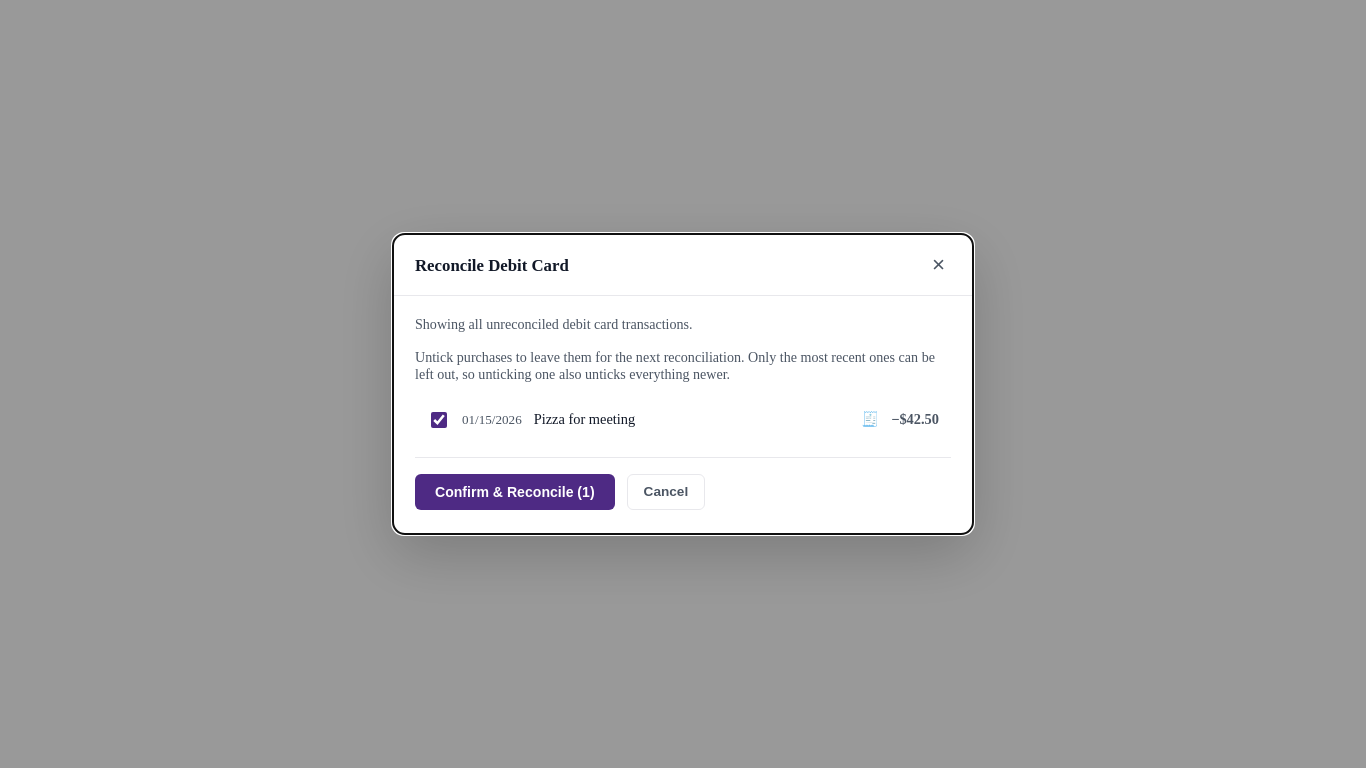
Test: ReconciliationModal › shows an error message when the receipts ZIP download fails
Click the button "Confirm & Reconcile (1)". click: (515, 492)
box: [415,474,615,510]
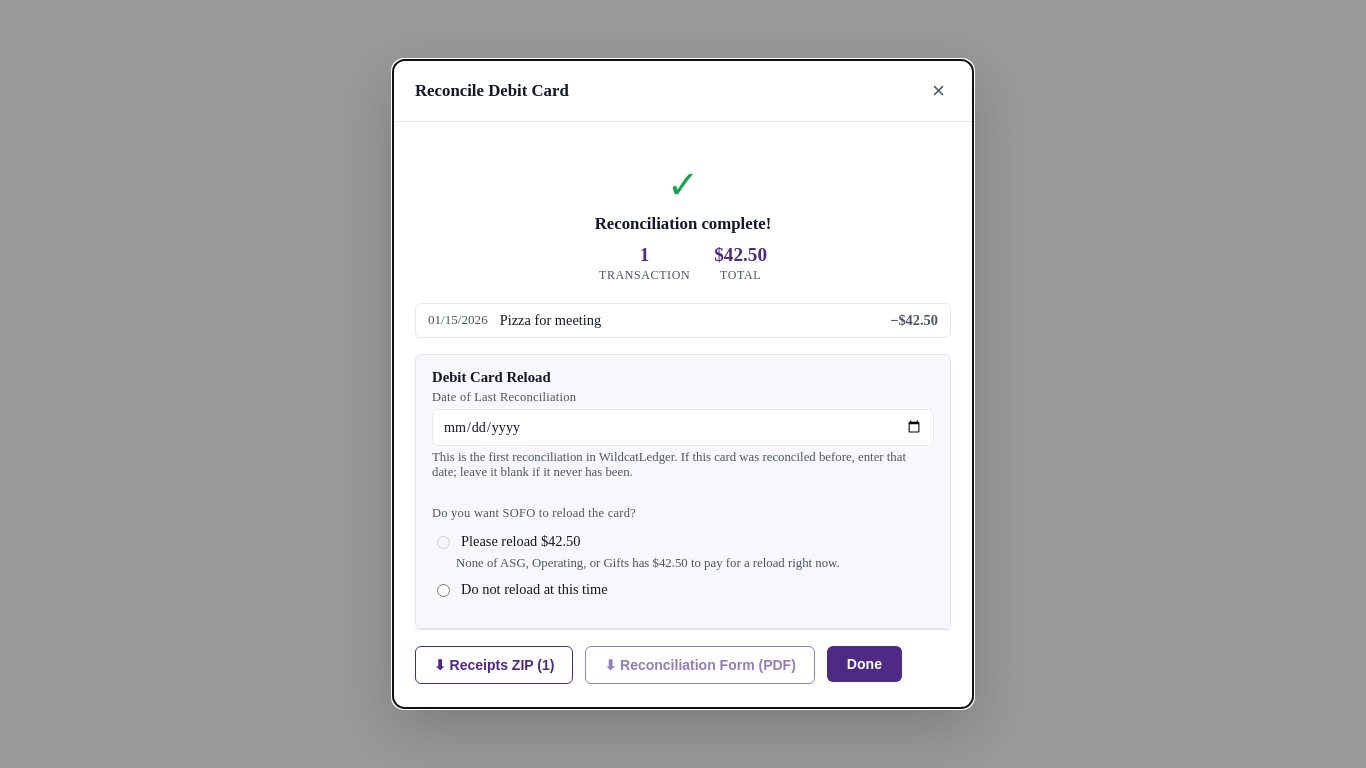
Click the button "⬇ Receipts ZIP (1)". click: (494, 665)
box: [415,646,573,684]
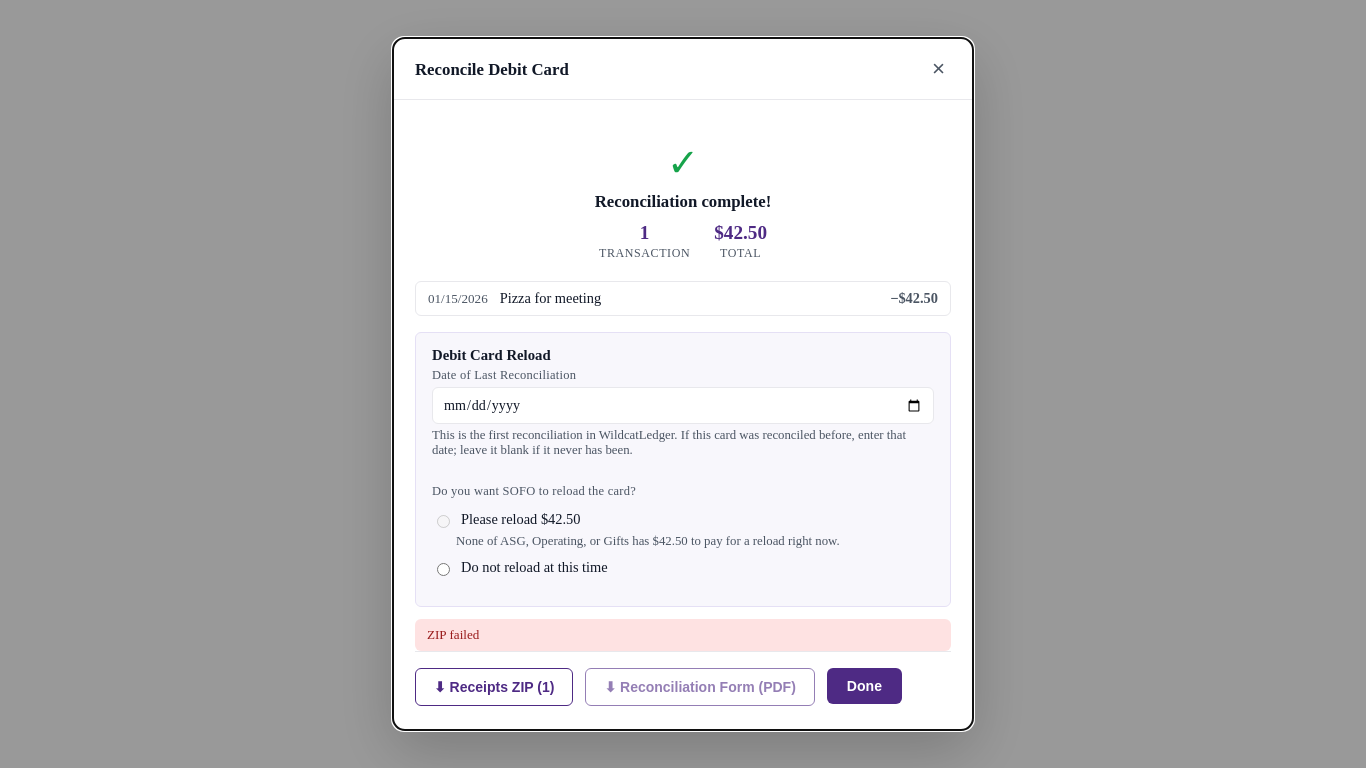
Check: the button "⬇ Receipts ZIP (1)" is shown, box [415,668,573,706]
Check: the text "ZIP failed" is shown, box [415,619,951,651]
